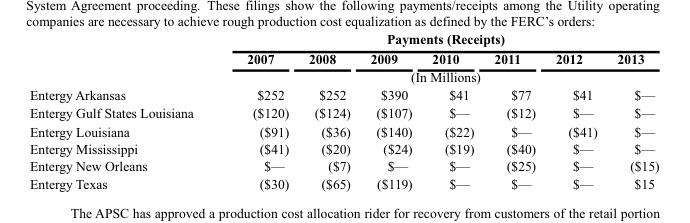table: (29, 29, 658, 191)
table column: (29, 29, 219, 191), (219, 29, 298, 191), (359, 29, 421, 191), (421, 29, 483, 191), (544, 29, 606, 191), (298, 29, 359, 191), (483, 29, 544, 191), (606, 29, 658, 191)
table column header: (29, 29, 658, 85)
table row: (29, 29, 658, 48), (29, 48, 658, 67), (29, 67, 658, 85), (29, 85, 658, 103), (29, 103, 658, 121), (29, 121, 658, 139), (29, 156, 658, 174), (29, 139, 658, 156), (29, 174, 658, 191)
table spanning cell: (219, 29, 658, 48), (219, 67, 658, 85)
